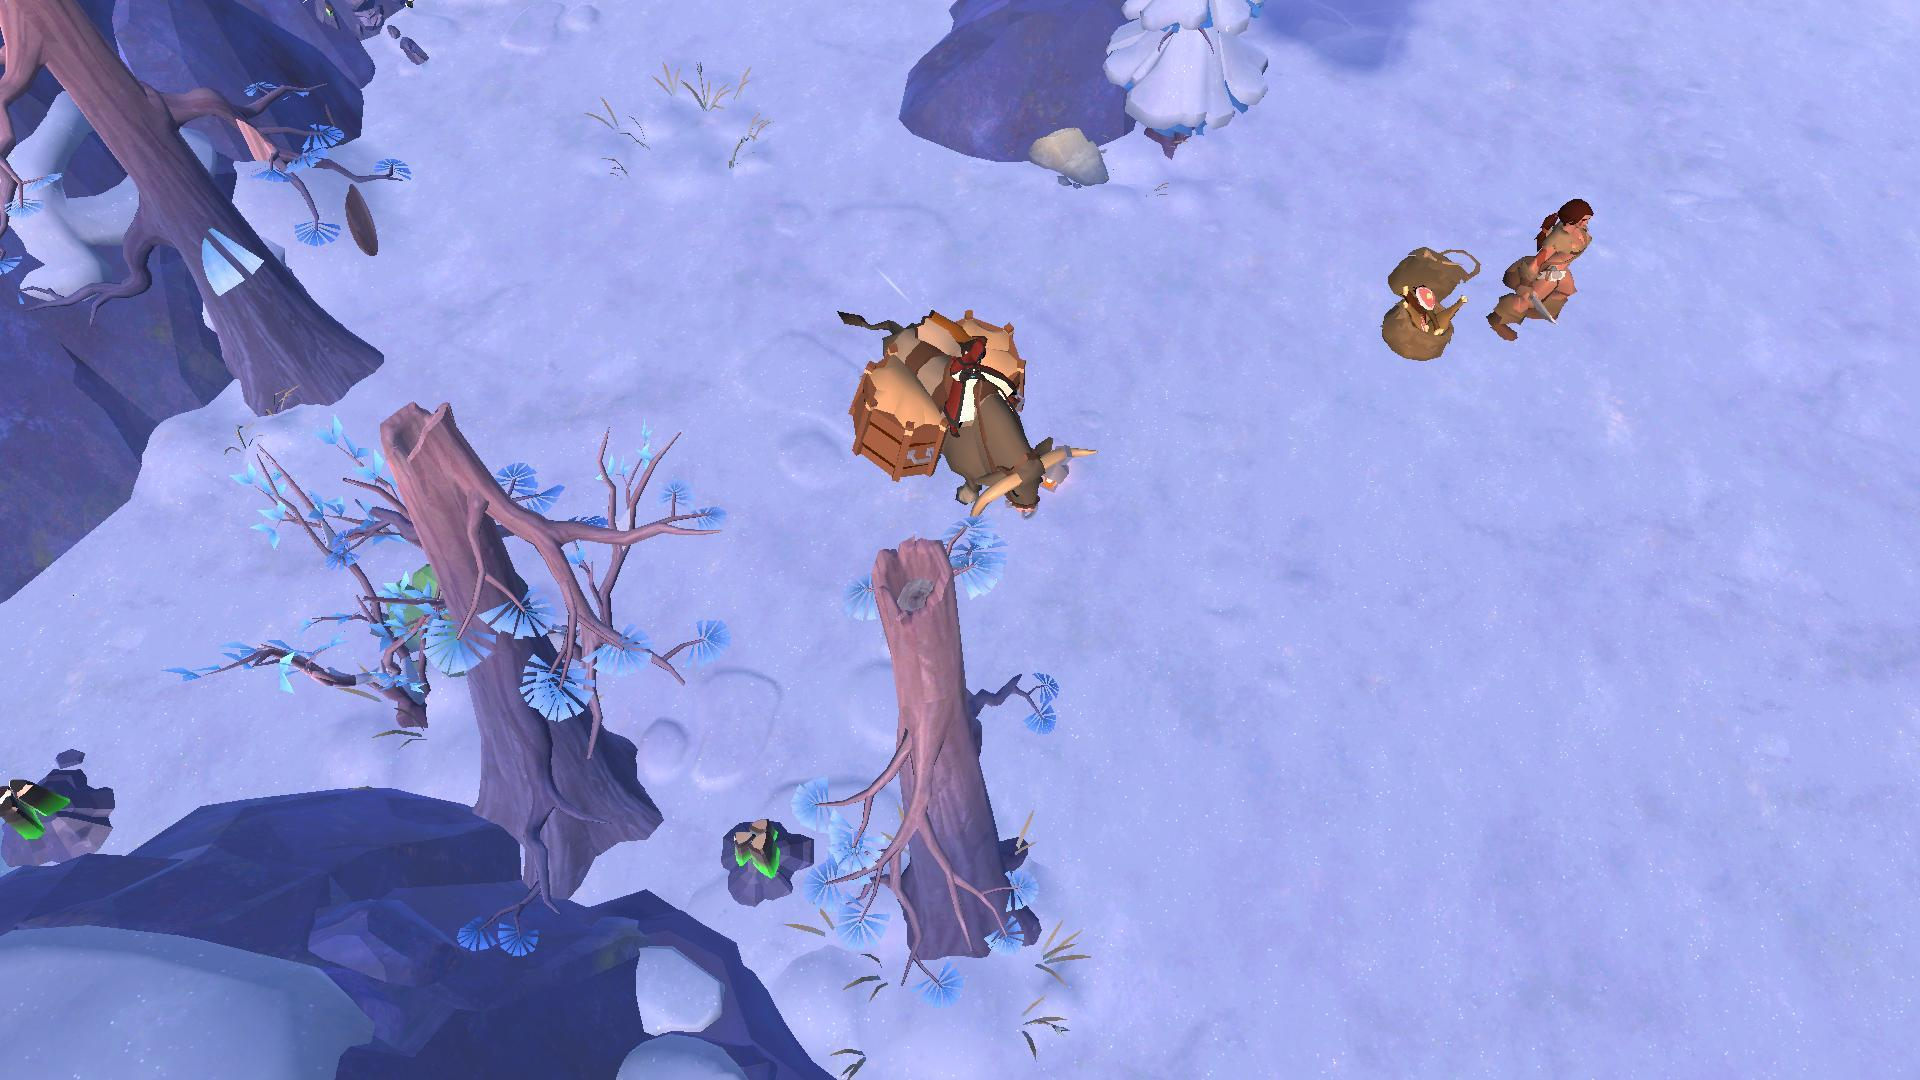enemy_factionKeeper: (1480, 182, 1598, 347)
ore_t3: (0, 769, 66, 837), (723, 814, 783, 881)
